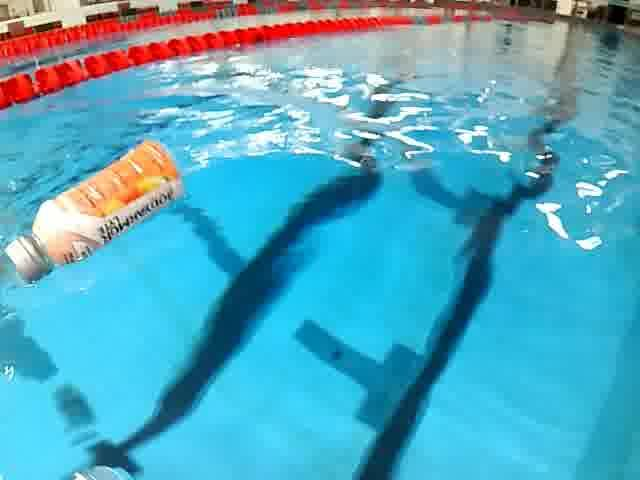Bottle: (6, 136, 188, 288)
